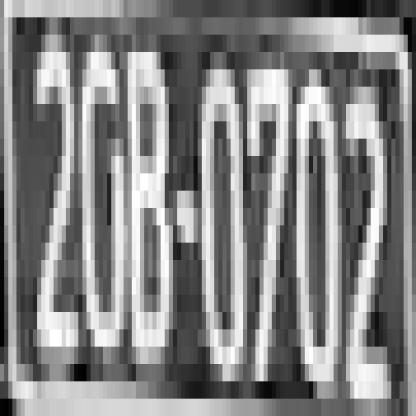0: (292, 87, 334, 381), (198, 52, 239, 347)
2: (33, 35, 74, 329), (346, 87, 383, 381)
7: (243, 69, 284, 364)
B: (132, 70, 169, 330)
G: (82, 52, 124, 329)
